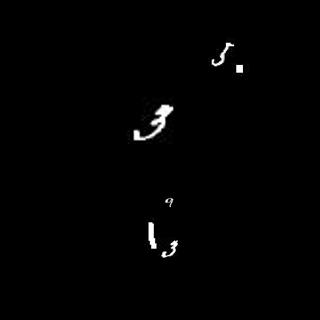dot: (229, 60, 249, 79)
five: (209, 39, 233, 67)
nine: (162, 191, 179, 209)
one: (147, 220, 159, 250)
three: (131, 102, 176, 144), (163, 238, 180, 259)
